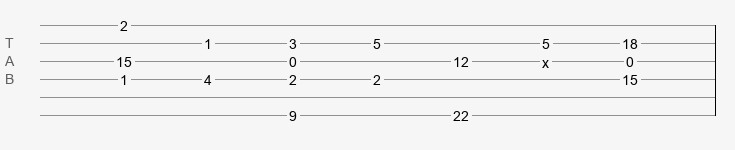0: (289, 54, 297, 64), (626, 54, 634, 64)
1: (120, 72, 128, 82), (204, 36, 212, 46)
12: (453, 54, 469, 64)
15: (116, 54, 132, 64), (622, 72, 638, 82)
18: (622, 36, 638, 46)
2: (120, 18, 128, 28), (289, 72, 297, 82), (373, 72, 381, 82)
22: (453, 108, 469, 118)
3: (289, 36, 297, 46)
4: (204, 72, 212, 82)
5: (373, 36, 381, 46), (542, 36, 550, 46)
9: (289, 108, 297, 118)
x: (542, 55, 549, 63)
